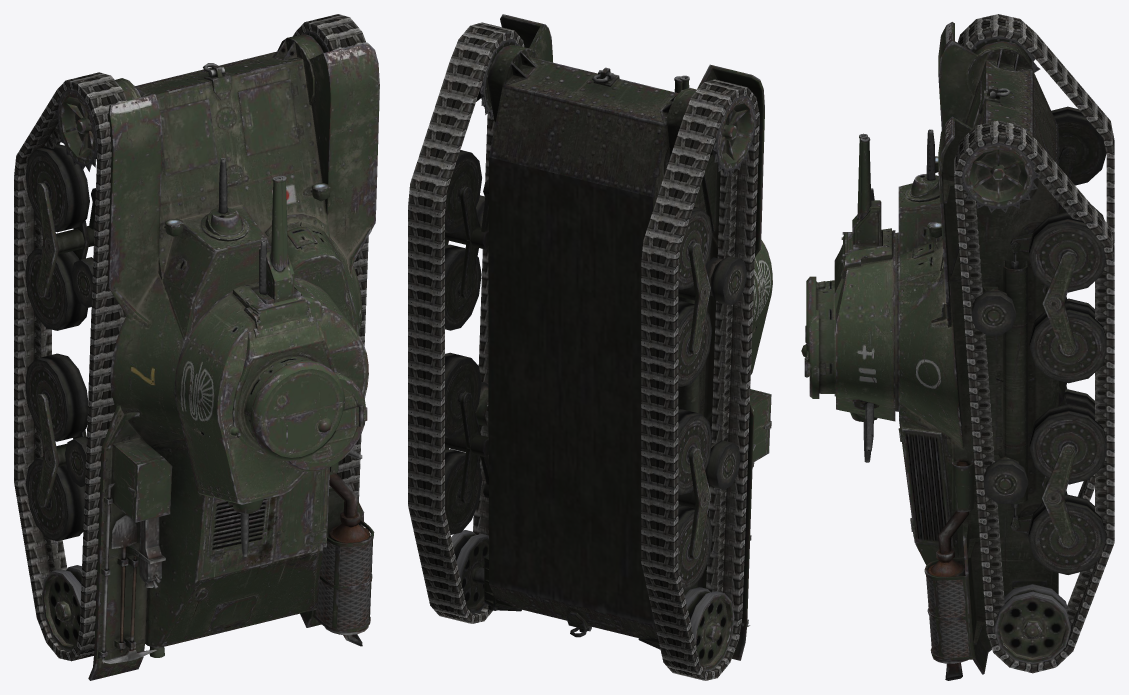
3 views of the same model, side by side, from view 1: azimuth 30°, elevation 25°; view 2: azimuth 150°, elevation 25°; view 3: azimuth 270°, elevation 25° (orthographic). The views are drawn at different scales.
Visible parts, largest first — view 1: hull, chassis_track_L, turret_02, turret_01, chassis_wheel_L_05, chassis_wheel_L_02, Ha_Go_hull_grill.sc2, chassis_wheel_L_07, chassis_wheel_L_04, chassis_track_R, chassis_wheel_L_08, chassis_wheel_L_01 (+4 smaller); view 2: hull, chassis_track_L, chassis_track_R, chassis_wheel_L_08, chassis_wheel_L_01, chassis_wheel_R_05, chassis_wheel_R_08, chassis_wheel_R_04, chassis_wheel_R_07, chassis_wheel_L_05, chassis_wheel_L_04, chassis_wheel_R_02 (+6 smaller); view 3: hull, chassis_track_R, turret_02, chassis_track_L, chassis_wheel_R_08, chassis_wheel_R_05, chassis_wheel_R_04, chassis_wheel_R_07, chassis_wheel_R_02, chassis_wheel_R_01, turret_01, chassis_wheel_L_02 (+5 smaller).
Boxes of the visible parts, <box> form: hull: <box>36,34,379,680</box>; chassis_track_L: <box>14,72,127,661</box>; turret_02: <box>174,278,368,556</box>; turret_01: <box>215,296,362,461</box>; chassis_wheel_L_05: <box>25,353,87,441</box>; chassis_wheel_L_02: <box>25,144,89,232</box>; Ha_Go_hull_grill.sc2: <box>316,540,372,628</box>; chassis_wheel_L_07: <box>25,457,84,541</box>; chassis_wheel_L_04: <box>25,246,87,330</box>; chassis_track_R: <box>293,14,368,501</box>; chassis_wheel_L_08: <box>41,565,81,651</box>; chassis_wheel_L_01: <box>55,89,97,171</box>; hull: <box>445,14,771,660</box>; chassis_track_L: <box>641,79,759,680</box>; chassis_track_R: <box>408,22,524,623</box>; chassis_wheel_L_08: <box>685,587,734,671</box>; chassis_wheel_L_01: <box>709,95,755,176</box>; chassis_wheel_R_05: <box>445,352,481,438</box>; chassis_wheel_R_08: <box>451,530,488,613</box>; chassis_wheel_R_04: <box>445,244,481,330</box>; chassis_wheel_R_07: <box>445,449,482,534</box>; chassis_wheel_L_05: <box>678,409,712,494</box>; chassis_wheel_L_04: <box>678,300,711,386</box>; chassis_wheel_R_02: <box>445,150,481,233</box>; hull: <box>896,22,1076,680</box>; chassis_track_R: <box>954,120,1114,673</box>; turret_02: <box>801,228,895,462</box>; chassis_track_L: <box>957,14,1114,501</box>; chassis_wheel_R_08: <box>994,584,1070,664</box>; chassis_wheel_R_05: <box>1029,404,1106,484</box>; chassis_wheel_R_04: <box>1029,302,1106,383</box>; chassis_wheel_R_07: <box>1028,494,1106,574</box>; chassis_wheel_R_02: <box>1029,212,1106,292</box>; chassis_wheel_R_01: <box>962,142,1040,212</box>; turret_01: <box>806,232,898,451</box>; chassis_wheel_L_02: <box>1051,106,1106,185</box>.
Size of the model in its own units: 2.09 by 4.35 by 2.24.
Materials: 3 (3 with a texture image).
